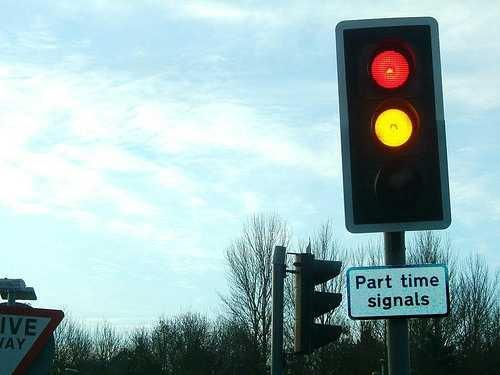red: (355, 39, 414, 94)
